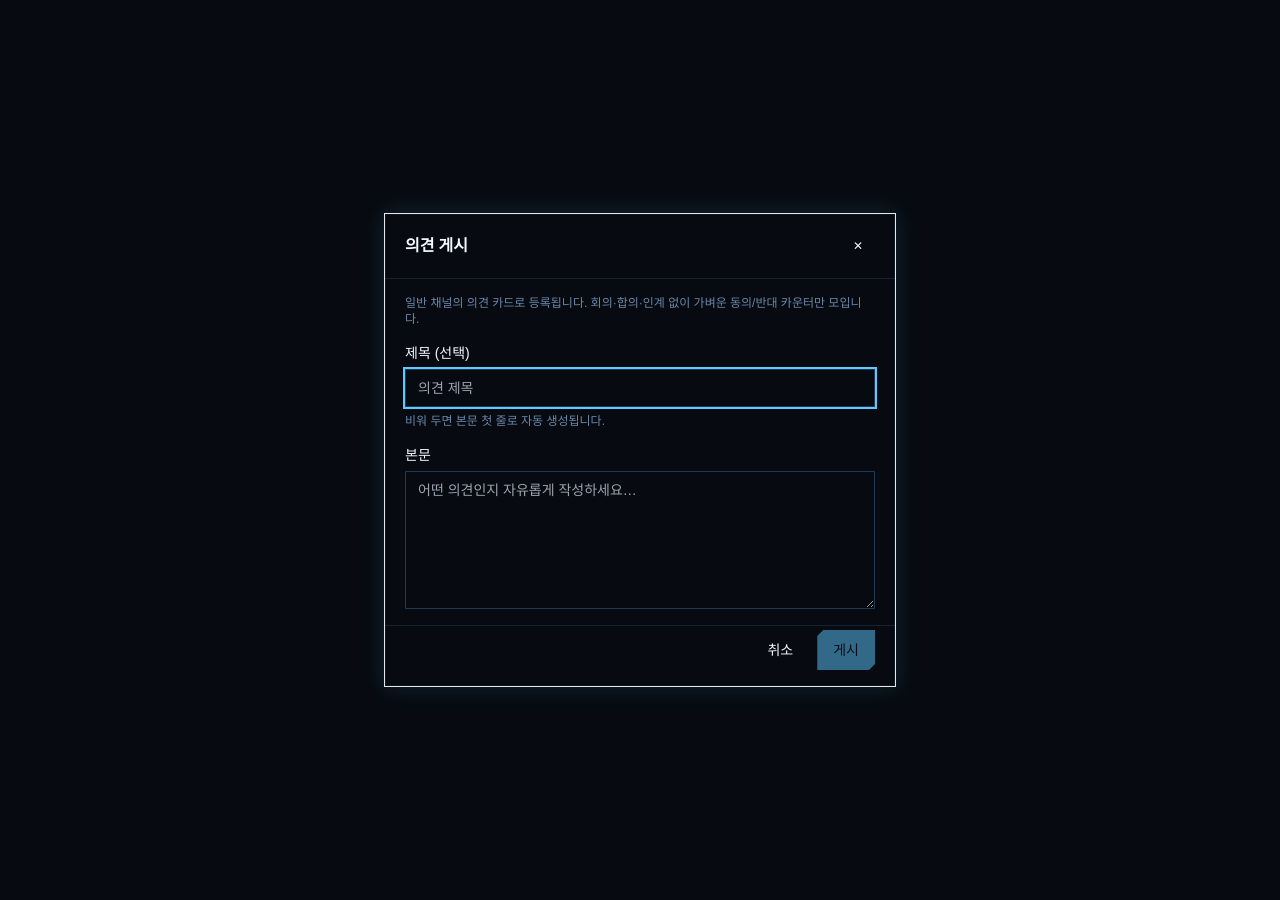
PostOpinionModal — submit error › 일반 에러 → generic 에러 메시지 surface
Type "본문" into the text box with test id "post-opinion-content" at (640, 540), box 405,471 -> 875,609
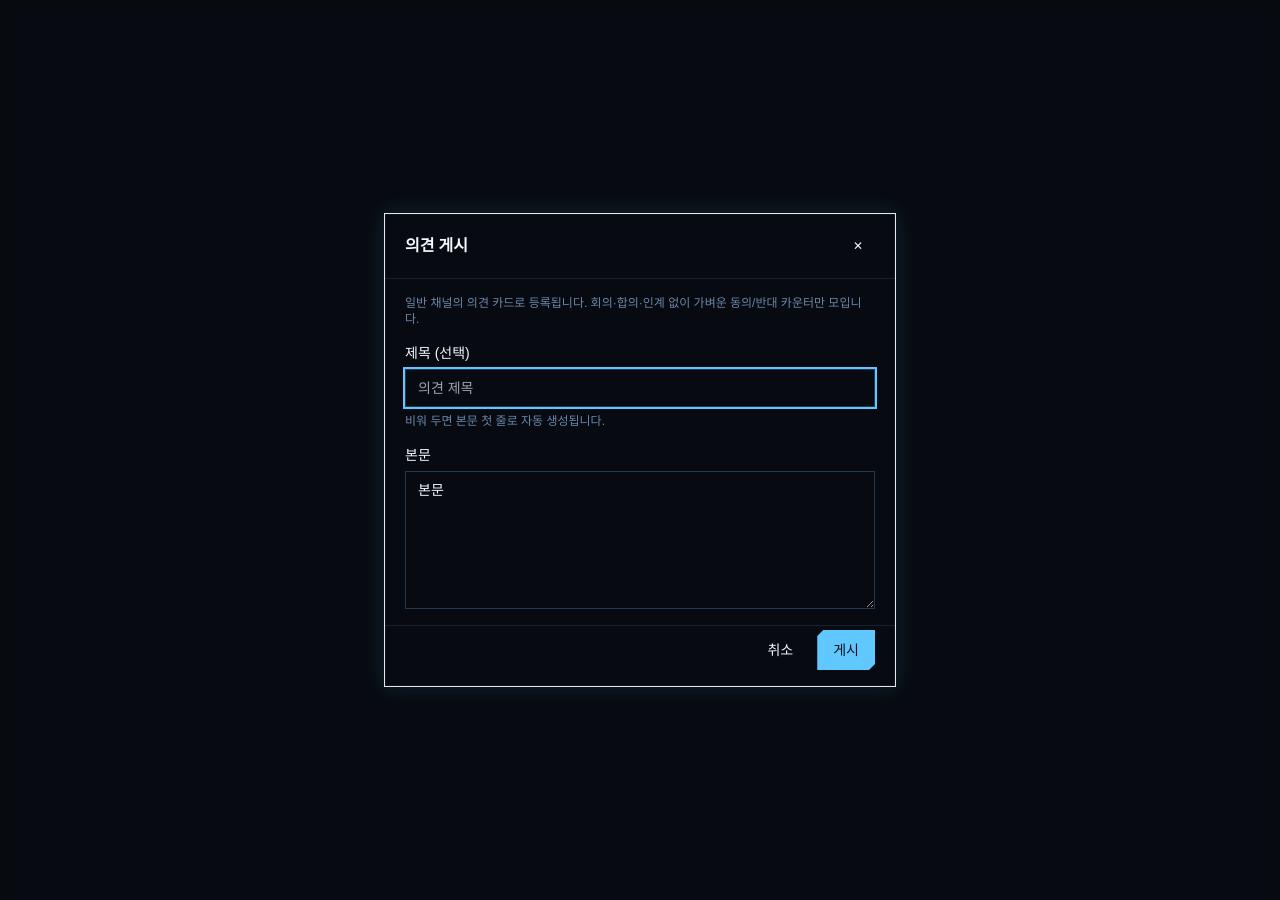
Click the button with test id "post-opinion-submit" at (846, 650), box 817,630 -> 875,670
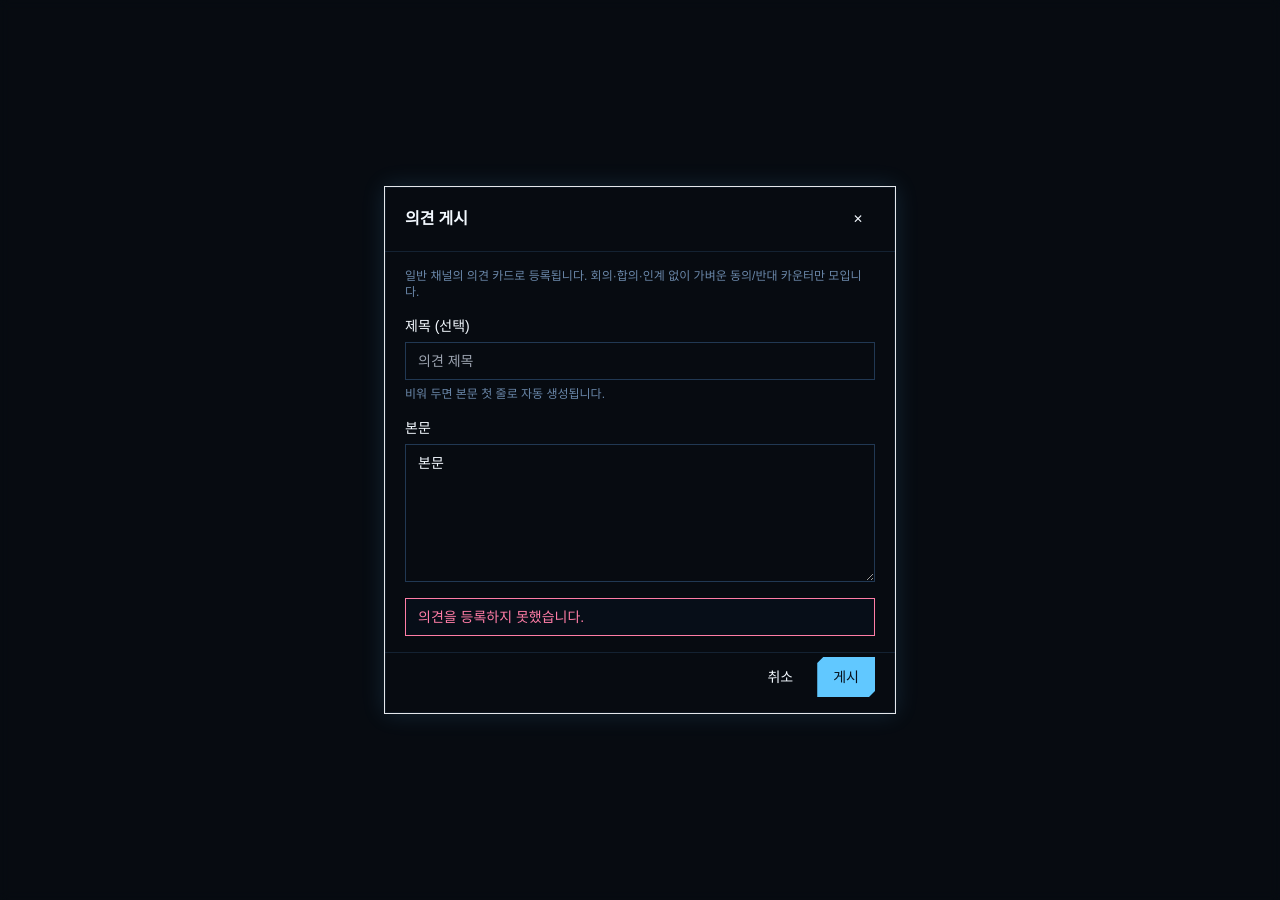
Now the message with test id "post-opinion-error" shows "의견", box 405,598 -> 875,636
